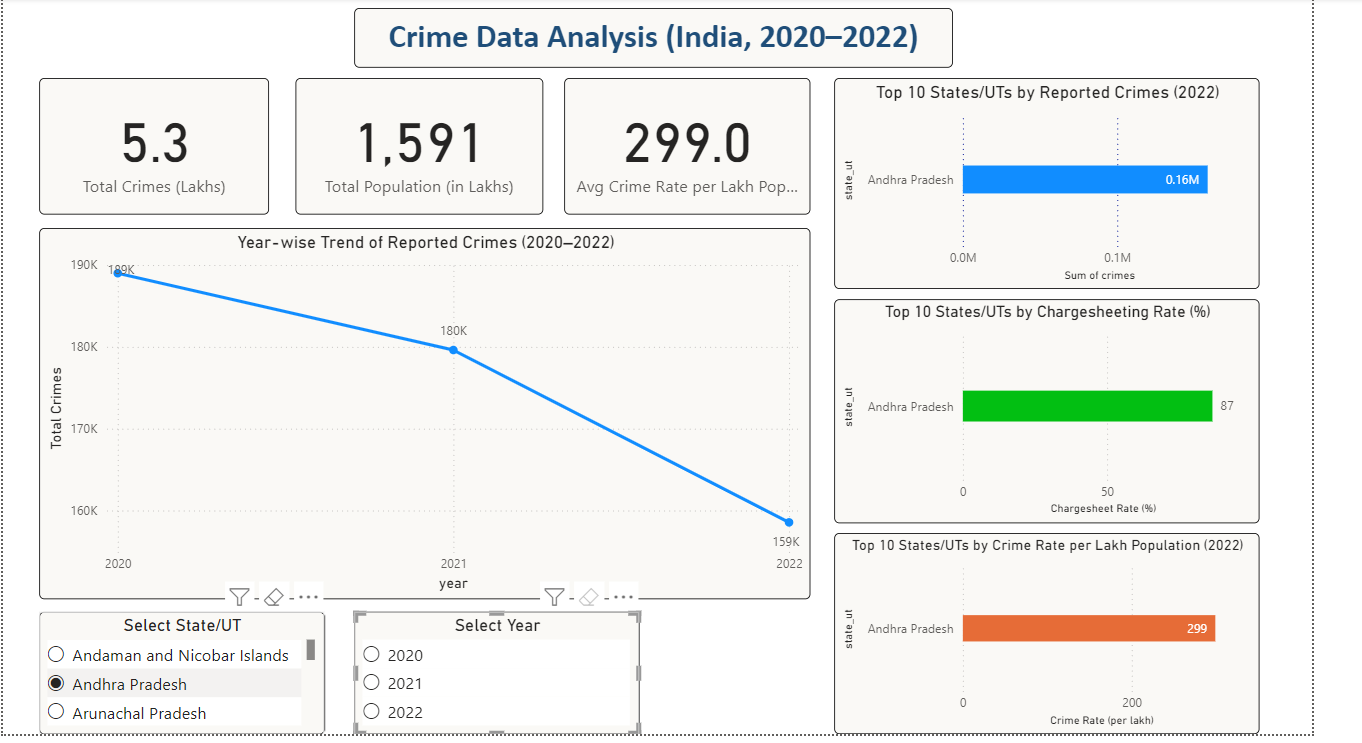

The dashboard page shown, as its layout file describes it:
{"tool":"powerbi","page":{"name":"Page 1","canvas":[1280,720],"ordinal":0},"visuals":[{"type":"card","title":"Total Crimes","fields":{"Values":["crime_data_analysis ipc_crimes.Total Crimes (Lakhs)"]},"box":[35.5,78.3,225,133.3],"z":0,"group":"g2"},{"type":"barChart","title":"Top 10 States/UTs by Reported Crimes (2022)","fields":{"Category":["crime_data_analysis ipc_crimes.state_ut"],"Y":["Sum(crime_data_analysis ipc_crimes.crimes)"]},"box":[813.2,78.3,415.8,206.7],"z":0,"group":"g1"},{"type":"lineChart","title":"Year-wise Trend of Reported Crimes (2020–2022)","fields":{"Category":["crime_data_analysis ipc_crimes.year"],"Y":["Sum(crime_data_analysis ipc_crimes.crimes)"]},"box":[35.5,225,754.5,363.2],"z":0},{"type":"card","title":"Total Crimes","fields":{"Values":["Sum(crime_data_analysis ipc_crimes.population_lakh)"]},"box":[286.2,78.3,242.1,133.3],"z":1000,"group":"g2"},{"type":"barChart","title":"Top 10 States/UTs by Chargesheeting Rate (%)","fields":{"Category":["crime_data_analysis ipc_crimes.state_ut"],"Y":["Sum(crime_data_analysis ipc_crimes.chargesheet_rate)"]},"box":[813.2,294.7,415.8,218.9],"z":1000,"group":"g1"},{"type":"listSlicer","title":"Select State/UT","fields":{"Values":["crime_data_analysis ipc_crimes.state_ut"]},"box":[35.5,600.4,278.8,119.8],"z":1000},{"type":"textbox","box":[343.6,9.8,585.7,58.7],"z":2000},{"type":"card","title":"Total Crimes","fields":{"Values":["Avg(crime_data_analysis ipc_crimes.rate_ipc)"]},"box":[549.1,78.3,240.9,133.3],"z":2000,"group":"g2"},{"type":"barChart","title":"Top 10 States/UTs by Crime Rate per Lakh Population (2022)","fields":{"Category":["crime_data_analysis ipc_crimes.state_ut"],"Y":["Sum(crime_data_analysis ipc_crimes.rate_ipc)"]},"box":[813.2,523.4,415.8,196.9],"z":2000,"group":"g1"},{"type":"listSlicer","title":"Select Year","fields":{"Values":["crime_data_analysis ipc_crimes.year"]},"box":[343.6,600.4,278.8,119.8],"z":3000},{"type":"group","id":"g1","title":"Group 1","box":[813.2,78.3,415.8,642],"z":4000},{"type":"group","id":"g2","title":"Group 2","box":[35.5,78.3,754.5,133.3],"z":5000}]}

Visuals, with their boxes on the page's 1280x720 design canvas (x1, y1, x2, y2). These are canvas units, not pixel positions in the 1362x743 screenshot, which may show the page scaled, cropped or inside an application window:
"Total Crimes" card: <bbox>36, 78, 260, 212</bbox>
"Top 10 States/UTs by Reported Crimes (2022)" barChart: <bbox>813, 78, 1229, 285</bbox>
"Year-wise Trend of Reported Crimes (2020–2022)" lineChart: <bbox>36, 225, 790, 588</bbox>
"Total Crimes" card: <bbox>286, 78, 528, 212</bbox>
"Top 10 States/UTs by Chargesheeting Rate (%)" barChart: <bbox>813, 295, 1229, 514</bbox>
"Select State/UT" listSlicer: <bbox>36, 600, 314, 720</bbox>
textbox: <bbox>344, 10, 929, 68</bbox>
"Total Crimes" card: <bbox>549, 78, 790, 212</bbox>
"Top 10 States/UTs by Crime Rate per Lakh Population (2022)" barChart: <bbox>813, 523, 1229, 720</bbox>
"Select Year" listSlicer: <bbox>344, 600, 622, 720</bbox>
"Group 1" group: <bbox>813, 78, 1229, 720</bbox>
"Group 2" group: <bbox>36, 78, 790, 212</bbox>
